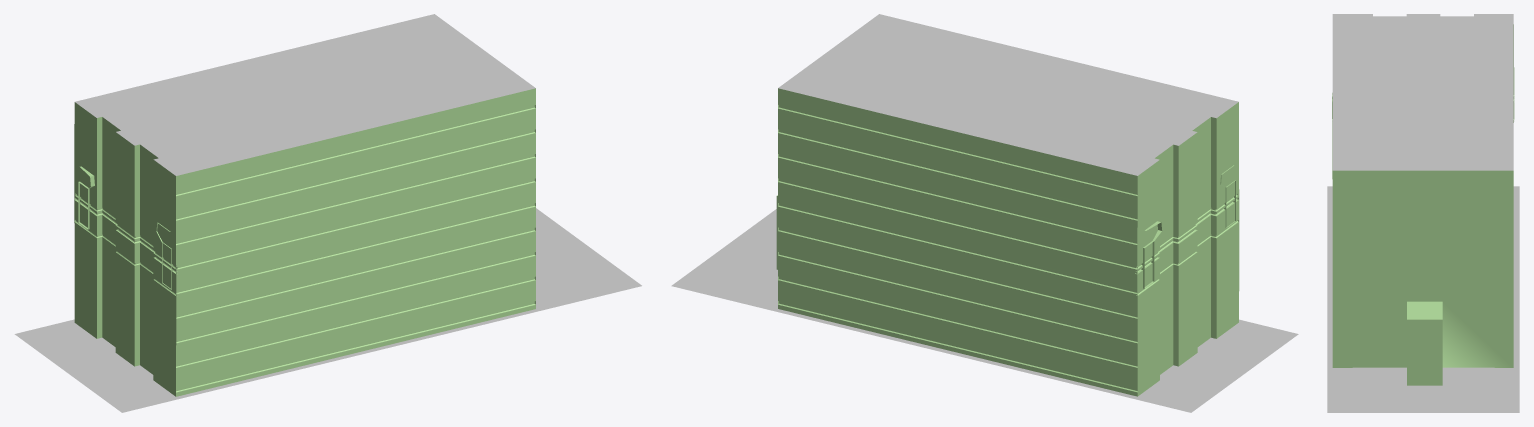
Rendered from scene3_myVer12.fbx.
3 renders of one model, left to right at view 1: azimuth 30°, elevation 25°; view 2: azimuth 150°, elevation 25°; view 3: azimuth 270°, elevation 25°, orthographic. The views are drawn at different scales.
Visible parts, largest first — view 1: MainBox, Ceiling, Floor; view 2: MainBox, Ceiling, Floor; view 3: Back, Ceiling, Floor, MainBox.
Boxes of the visible parts, x1=… form: MainBox: x1=74, y1=88, x2=535, y2=396; Ceiling: x1=75, y1=14, x2=535, y2=175; Floor: x1=14, y1=208, x2=641, y2=412; MainBox: x1=778, y1=88, x2=1239, y2=396; Ceiling: x1=778, y1=14, x2=1238, y2=175; Floor: x1=671, y1=209, x2=1298, y2=412; Back: x1=1332, y1=170, x2=1513, y2=385; Ceiling: x1=1332, y1=14, x2=1513, y2=170; Floor: x1=1327, y1=186, x2=1519, y2=412; MainBox: x1=1332, y1=24, x2=1514, y2=363.
Size of the model in its own units: 4015 by 1628 by 1440.
